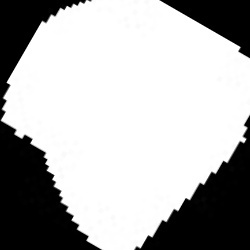spot: (3, 1, 249, 249)
